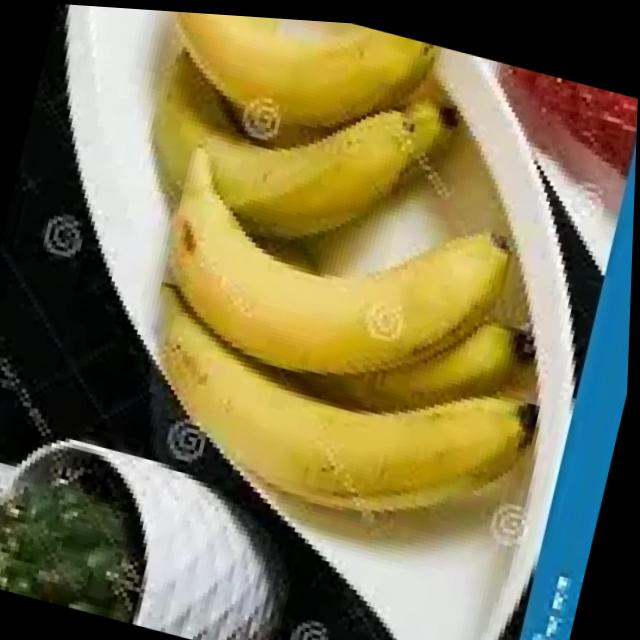BANANA: (152, 12, 537, 517)
